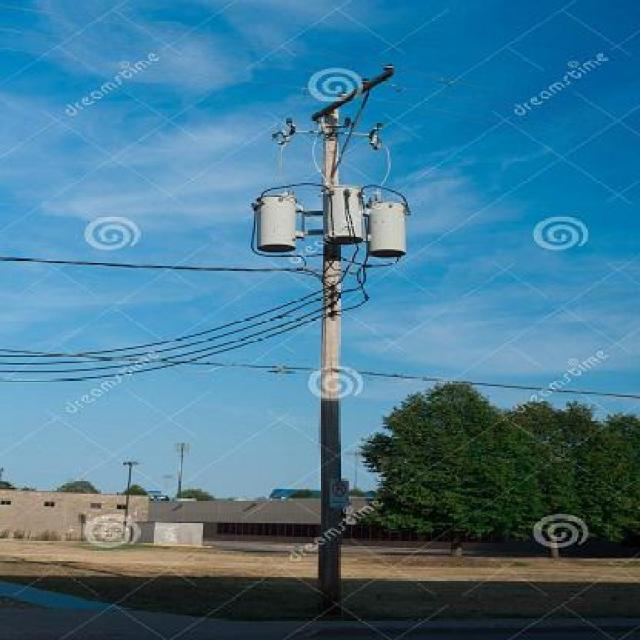pole: (242, 58, 416, 580)
